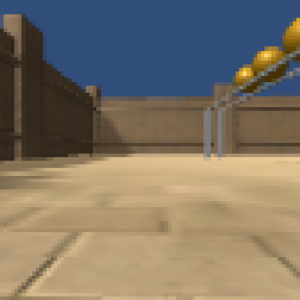goodGoalMulti: (278, 10, 300, 67), (252, 45, 285, 82), (236, 65, 260, 96)
wall: (218, 106, 227, 159), (204, 106, 213, 155)
